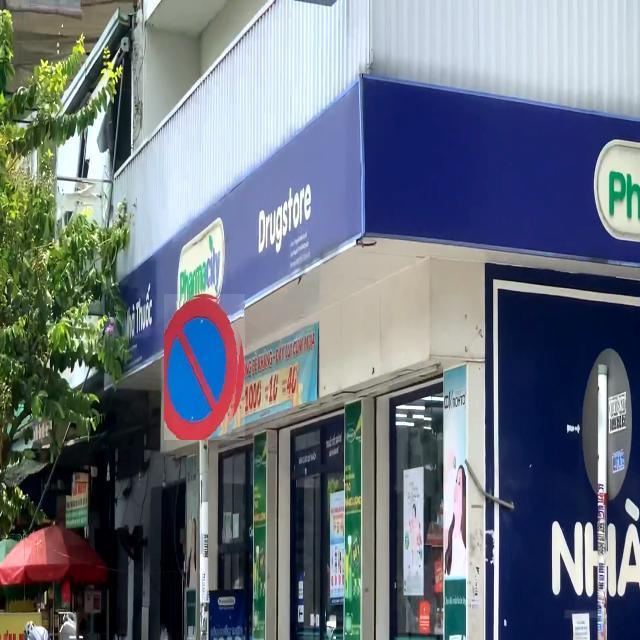P-131a: (164, 294, 245, 440)
